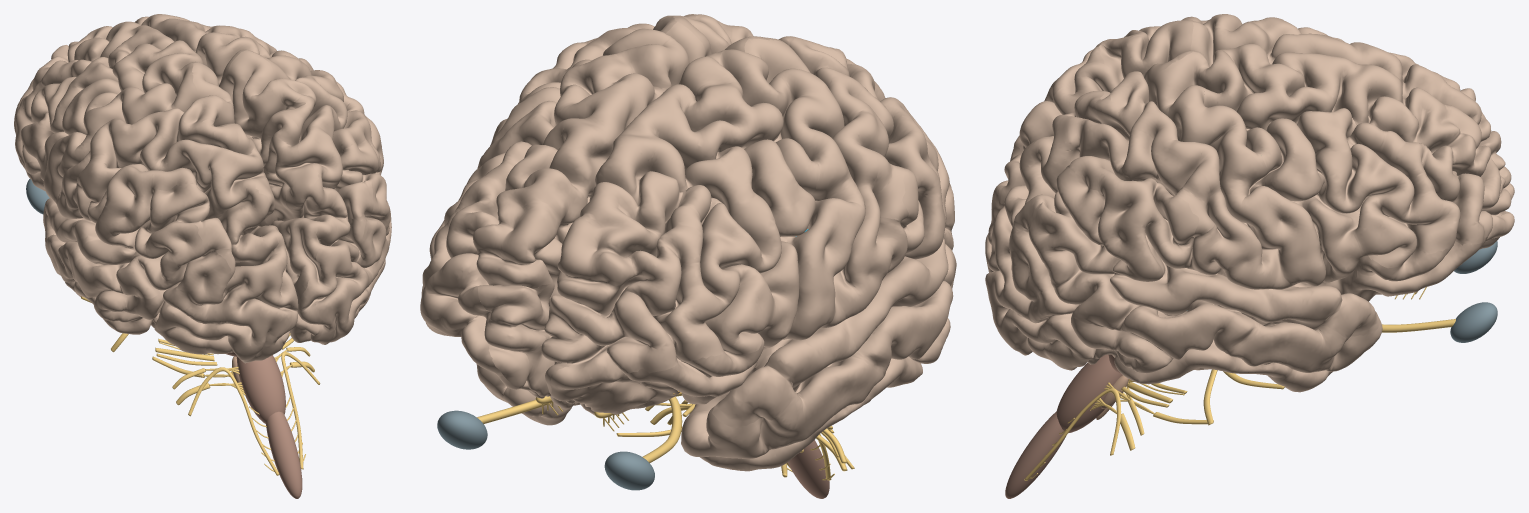
Rendered from brain-optimized.glb.
3 views of the same model, side by side, from view 1: azimuth 30°, elevation 25°; view 2: azimuth 150°, elevation 25°; view 3: azimuth 270°, elevation 25° (orthographic). The views are drawn at different scales.
Parts seen in each view (by area): view 1: Occipital Lobe_Material.047_0, Occipital Lobe_Material.047_0__mirrored, Parietal Lobe_Material.042_0, Parietal Lobe2_Material.002_0, Pre Central_Material.048_0, Post Central_Material.049_0, Superior Frontal_Material.045_0, Supra Marginal_Material_0, Middle Frontal Gyrus_Material.043_0, Parietal Lobe_Material.042_0__mirrored, Middle Temporal_Material.040_0, Superior Frontal_Material.045_0__mirrored (+40 smaller); view 2: Superior Frontal_Material.045_0, Middle Frontal Gyrus_Material.043_0, Superior Frontal_Material.045_0__mirrored, Pre Central_Material.048_0, Middle Temporal_Material.040_0, Superior Temporal_Material.041_0, Middle Frontal Gyrus_Material.043_0__mirrored, Post Central_Material.049_0, Middle Frontal Gyrus3_Material.043_0, Lateral Orbital Frontal Cortex_Material.050_0, Supra Marginal_Material_0, Inferior Frontal Gyrus3_Material.044_0 (+30 smaller); view 3: Middle Frontal Gyrus_Material.043_0__mirrored, Superior Frontal_Material.045_0__mirrored, Pre Central_Material.048_0__mirrored, Middle Temporal_Material.040_0__mirrored, Superior Temporal_Material.041_0__mirrored, Post Central_Material.049_0__mirrored, Superior Frontal_Material.045_0, Supra Marginal_Material_0__mirrored, Parietal Lobe2_Material.002_0__mirrored, Occipital Lobe_Material.047_0__mirrored, Parietal Lobe_Material.042_0__mirrored, Inferior Temporal2_Material.046_0__mirrored (+29 smaller).
Part boxes in pixels (left/top/right/bottom): Occipital Lobe_Material.047_0: left=154, top=232, right=298, bottom=363; Occipital Lobe_Material.047_0__mirrored: left=290, top=214, right=385, bottom=344; Parietal Lobe_Material.042_0: left=158, top=139, right=271, bottom=244; Parietal Lobe2_Material.002_0: left=134, top=184, right=211, bottom=290; Pre Central_Material.048_0: left=43, top=63, right=197, bottom=206; Post Central_Material.049_0: left=57, top=96, right=220, bottom=220; Superior Frontal_Material.045_0: left=51, top=21, right=203, bottom=91; Supra Marginal_Material_0: left=80, top=163, right=155, bottom=255; Middle Frontal Gyrus_Material.043_0: left=14, top=56, right=118, bottom=140; Parietal Lobe_Material.042_0__mirrored: left=297, top=105, right=347, bottom=219; Middle Temporal_Material.040_0: left=45, top=229, right=159, bottom=298; Superior Frontal_Material.045_0__mirrored: left=134, top=14, right=269, bottom=100; Superior Frontal_Material.045_0: left=557, top=38, right=783, bottom=315; Middle Frontal Gyrus_Material.043_0: left=577, top=146, right=781, bottom=373; Superior Frontal_Material.045_0__mirrored: left=473, top=21, right=705, bottom=288; Pre Central_Material.048_0: left=749, top=38, right=865, bottom=347; Middle Temporal_Material.040_0: left=706, top=244, right=956, bottom=458; Superior Temporal_Material.041_0: left=712, top=238, right=948, bottom=427; Middle Frontal Gyrus_Material.043_0__mirrored: left=420, top=101, right=556, bottom=330; Post Central_Material.049_0: left=789, top=37, right=907, bottom=313; Middle Frontal Gyrus3_Material.043_0: left=744, top=134, right=820, bottom=236; Lateral Orbital Frontal Cortex_Material.050_0: left=550, top=346, right=680, bottom=414; Supra Marginal_Material_0: left=844, top=118, right=945, bottom=278; Inferior Frontal Gyrus3_Material.044_0: left=705, top=279, right=775, bottom=354; Middle Frontal Gyrus_Material.043_0__mirrored: left=1297, top=108, right=1500, bottom=253; Superior Frontal_Material.045_0__mirrored: left=1193, top=44, right=1490, bottom=176; Pre Central_Material.048_0__mirrored: left=1153, top=51, right=1325, bottom=289; Middle Temporal_Material.040_0__mirrored: left=1072, top=274, right=1382, bottom=372; Superior Temporal_Material.041_0__mirrored: left=1110, top=259, right=1380, bottom=339; Post Central_Material.049_0__mirrored: left=1110, top=74, right=1264, bottom=289; Superior Frontal_Material.045_0: left=1190, top=17, right=1491, bottom=141; Supra Marginal_Material_0__mirrored: left=1098, top=171, right=1199, bottom=281; Parietal Lobe2_Material.002_0__mirrored: left=1028, top=166, right=1120, bottom=304; Occipital Lobe_Material.047_0__mirrored: left=985, top=189, right=1096, bottom=370; Parietal Lobe_Material.042_0__mirrored: left=1019, top=115, right=1128, bottom=204; Inferior Temporal2_Material.046_0__mirrored: left=1071, top=313, right=1292, bottom=379.
Size of the model in its own units: 10212 by 12562 by 13000.
